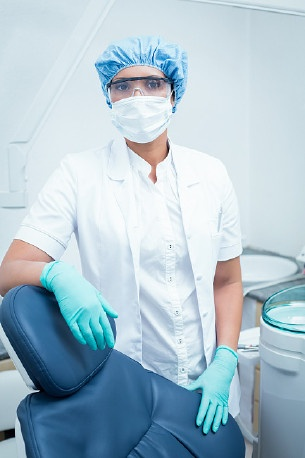Mask: (108, 71, 181, 144)
